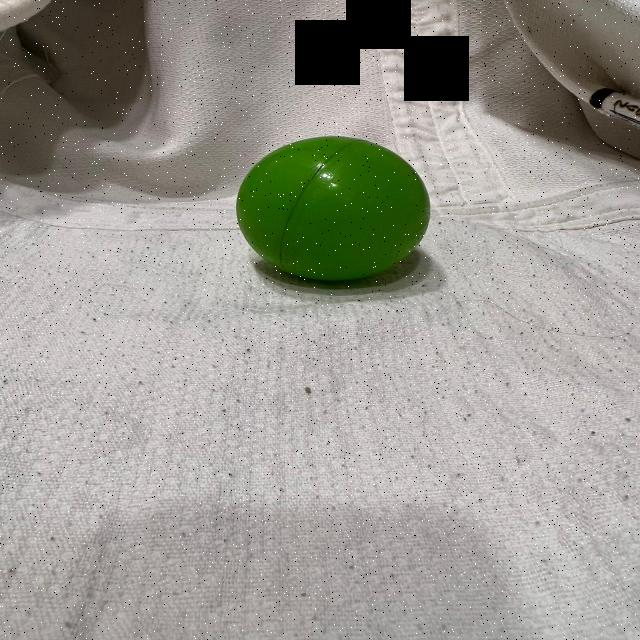ball: (230, 134, 436, 286)
